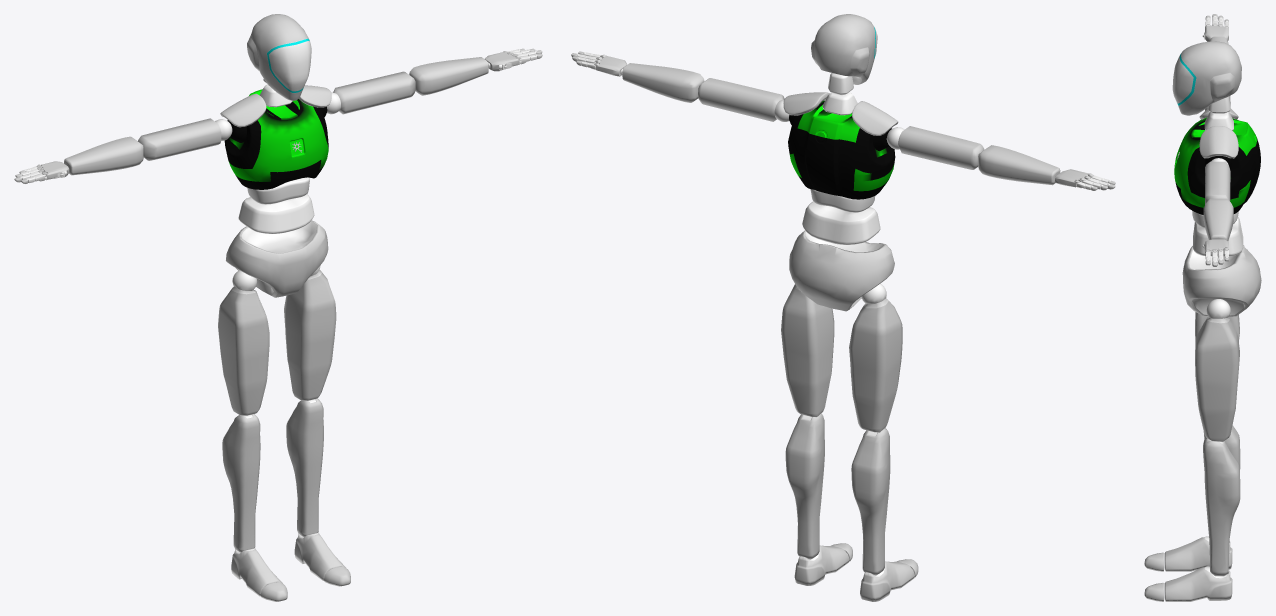
The model's file is PN_Avatar_Stickman01_v08_Heavy_FeetEnlarge_FeetGround.fbx.
3 renders of one model, left to right at view 1: azimuth 30°, elevation 25°; view 2: azimuth 150°, elevation 25°; view 3: azimuth 270°, elevation 25°, orthographic. The views are drawn at different scales.
Parts seen in each view (by area): view 1: SM_Spine6, SM_RightUpLeg, SM_LeftUpLeg, SM_Hips, SM_Head, SM_RightLeg, SM_LeftLeg, SM_RightArm, SM_LeftArm, SM_Spine, SM_RightForeArm, SM_LeftForeArm (+4 smaller); view 2: SM_Spine6, SM_RightUpLeg, SM_Hips, SM_LeftUpLeg, SM_LeftLeg, SM_RightLeg, SM_Head, SM_RightArm, SM_Spine, SM_LeftArm, SM_RightForeArm, SM_LeftForeArm (+5 smaller); view 3: SM_LeftUpLeg, SM_Spine6, SM_Head, SM_Hips, SM_LeftLeg, SM_LeftFoot, SM_RightFoot, SM_LeftForeArm, SM_LeftShoulder, SM_LeftArm, SM_Spine, SM_Neck (+8 smaller).
Boxes of the visible parts, bbox=[...] form: SM_Spine6: bbox=[224, 89, 328, 189]; SM_RightUpLeg: bbox=[218, 270, 269, 415]; SM_LeftUpLeg: bbox=[284, 265, 336, 400]; SM_Hips: bbox=[226, 220, 328, 297]; SM_Head: bbox=[247, 14, 311, 100]; SM_RightLeg: bbox=[222, 414, 260, 552]; SM_LeftLeg: bbox=[286, 398, 323, 536]; SM_RightArm: bbox=[138, 118, 232, 160]; SM_LeftArm: bbox=[326, 71, 415, 114]; SM_Spine: bbox=[238, 194, 314, 233]; SM_RightForeArm: bbox=[64, 136, 143, 175]; SM_LeftForeArm: bbox=[409, 57, 488, 95]; SM_Spine6: bbox=[788, 100, 895, 199]; SM_RightUpLeg: bbox=[849, 283, 902, 432]; SM_Hips: bbox=[789, 230, 894, 311]; SM_LeftUpLeg: bbox=[781, 284, 834, 417]; SM_LeftLeg: bbox=[785, 413, 824, 559]; SM_RightLeg: bbox=[851, 428, 890, 575]; SM_Head: bbox=[811, 14, 877, 84]; SM_RightArm: bbox=[886, 126, 984, 169]; SM_Spine: bbox=[802, 201, 880, 244]; SM_LeftArm: bbox=[698, 78, 789, 121]; SM_RightForeArm: bbox=[978, 145, 1060, 185]; SM_LeftForeArm: bbox=[622, 63, 704, 102]; SM_LeftUpLeg: bbox=[1195, 299, 1239, 441]; SM_Spine6: bbox=[1174, 117, 1260, 214]; SM_Head: bbox=[1172, 41, 1241, 115]; SM_Hips: bbox=[1182, 245, 1261, 316]; SM_LeftLeg: bbox=[1203, 438, 1240, 576]; SM_LeftFoot: bbox=[1164, 566, 1232, 601]; SM_RightFoot: bbox=[1164, 536, 1232, 571]; SM_LeftForeArm: bbox=[1203, 198, 1233, 240]; SM_LeftShoulder: bbox=[1199, 126, 1238, 158]; SM_LeftArm: bbox=[1205, 158, 1230, 204]; SM_Spine: bbox=[1193, 217, 1243, 256]; SM_Neck: bbox=[1204, 112, 1233, 130].
Bounding box in the file's own units: 183 × 183 × 36.09.
